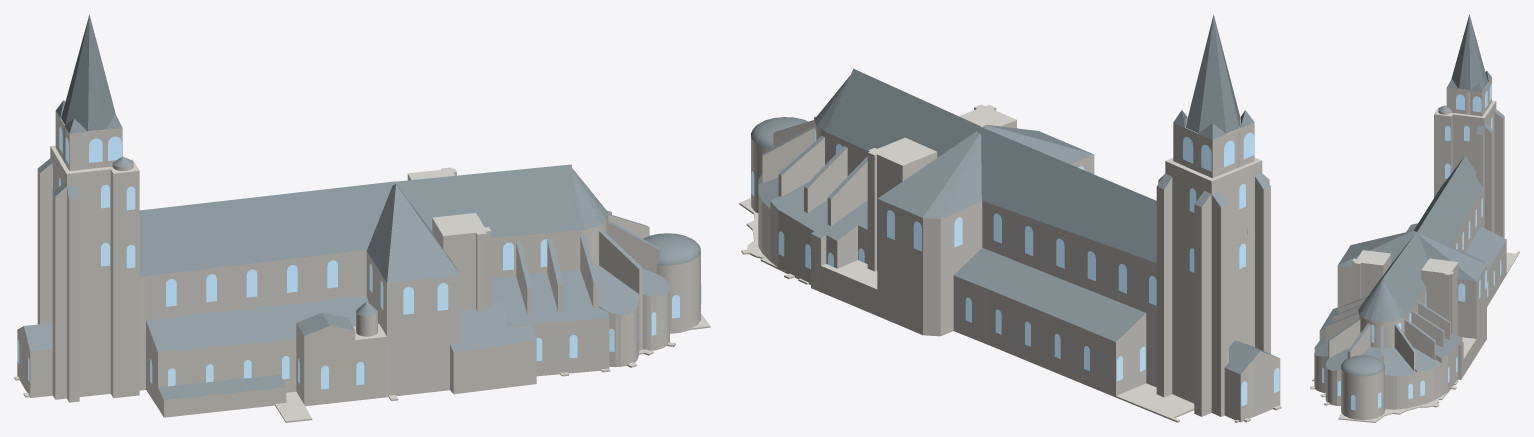
3 views of the same model, side by side, from view 1: azimuth 30°, elevation 25°; view 2: azimuth 150°, elevation 25°; view 3: azimuth 270°, elevation 25° (orthographic). The views are drawn at different scales.
Parts seen in each view (by area): view 1: stone, roof, window; view 2: stone, roof, window; view 3: stone, roof, window.
Part boxes in pixels (box(x1,y1,x2,y2)): stone: box(14, 111, 710, 422); roof: box(24, 14, 700, 400); window: box(17, 126, 701, 389); stone: box(739, 104, 1281, 422); roof: box(751, 14, 1277, 374); window: box(751, 129, 1279, 406); stone: box(1310, 78, 1519, 422); roof: box(1314, 14, 1506, 376); window: box(1322, 84, 1501, 410).
Size of the model in its own units: 102 by 60 by 47.61.
